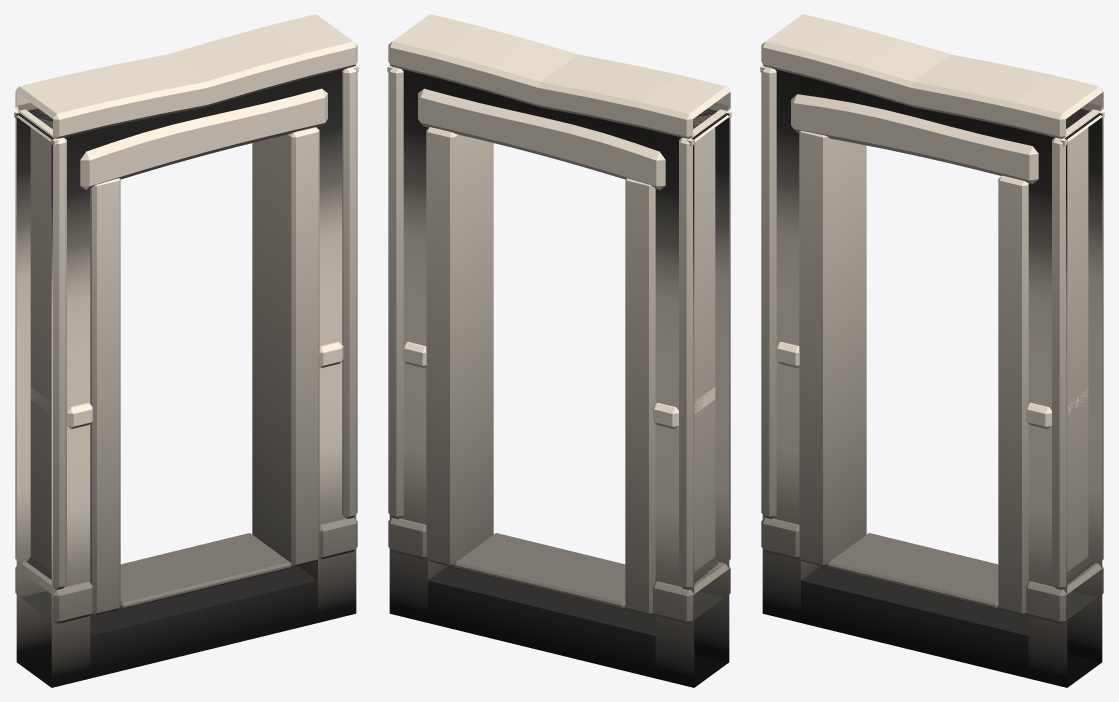
Rendered from SM_VKI_Wall_Wattle_Door_150_Full.fbx.
3 views of the same model, side by side, from view 1: azimuth 30°, elevation 25°; view 2: azimuth 150°, elevation 25°; view 3: azimuth 330°, elevation 25° (orthographic).
Parts seen in each view (by area): view 1: SM_VKI_Wall_Wattle_Door_150_Full.001; view 2: SM_VKI_Wall_Wattle_Door_150_Full.001; view 3: SM_VKI_Wall_Wattle_Door_150_Full.001.
Boxes of the visible parts, left/top/right/bottom form: SM_VKI_Wall_Wattle_Door_150_Full.001: left=14, top=14, right=358, bottom=687; SM_VKI_Wall_Wattle_Door_150_Full.001: left=387, top=14, right=731, bottom=687; SM_VKI_Wall_Wattle_Door_150_Full.001: left=760, top=14, right=1104, bottom=687.
Bounding box in the file's own units: 1.5 × 2.7 × 0.36.
